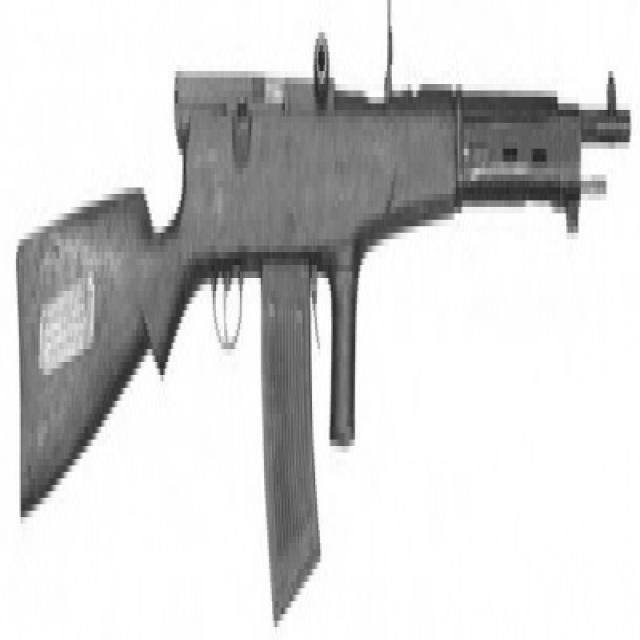rifle: (12, 18, 634, 640)
